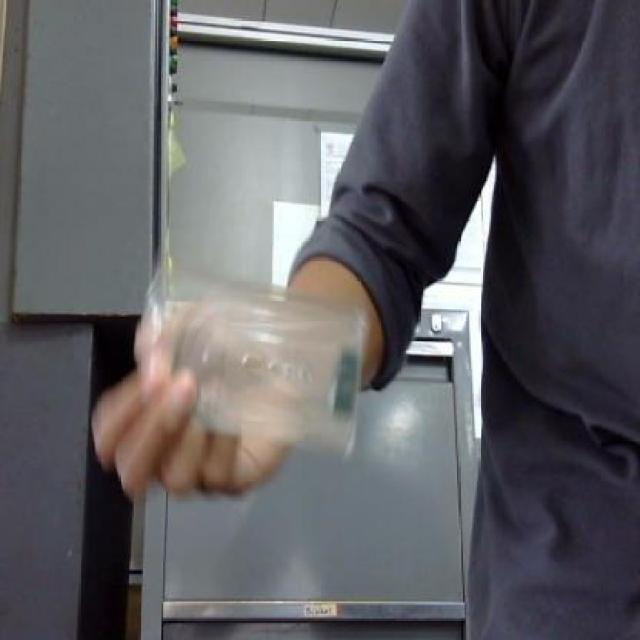Plastic: (129, 254, 378, 482)
